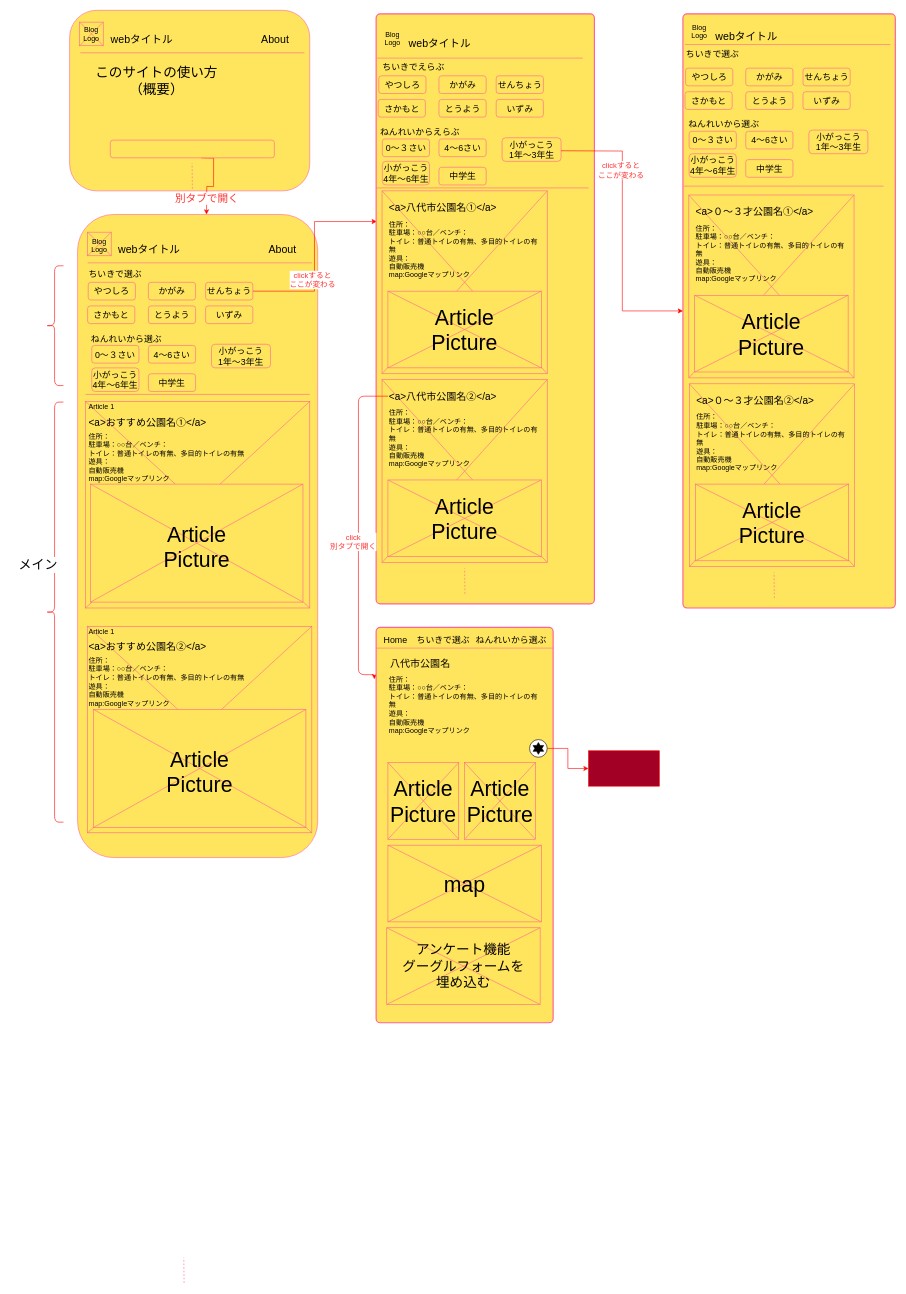
Some shapes in this 906 by 1294 pixel diagram are drawn without their labels. The shapes that lost their labels are listed below. From the top down, each one's box as (x1, y1, x2, y2) in pixels, then its label:
(110, 140, 274, 158): 公園を探す
(45, 265, 63, 386): 固定
(588, 750, 659, 786): お気に入りボタン ※ボタンのみ
